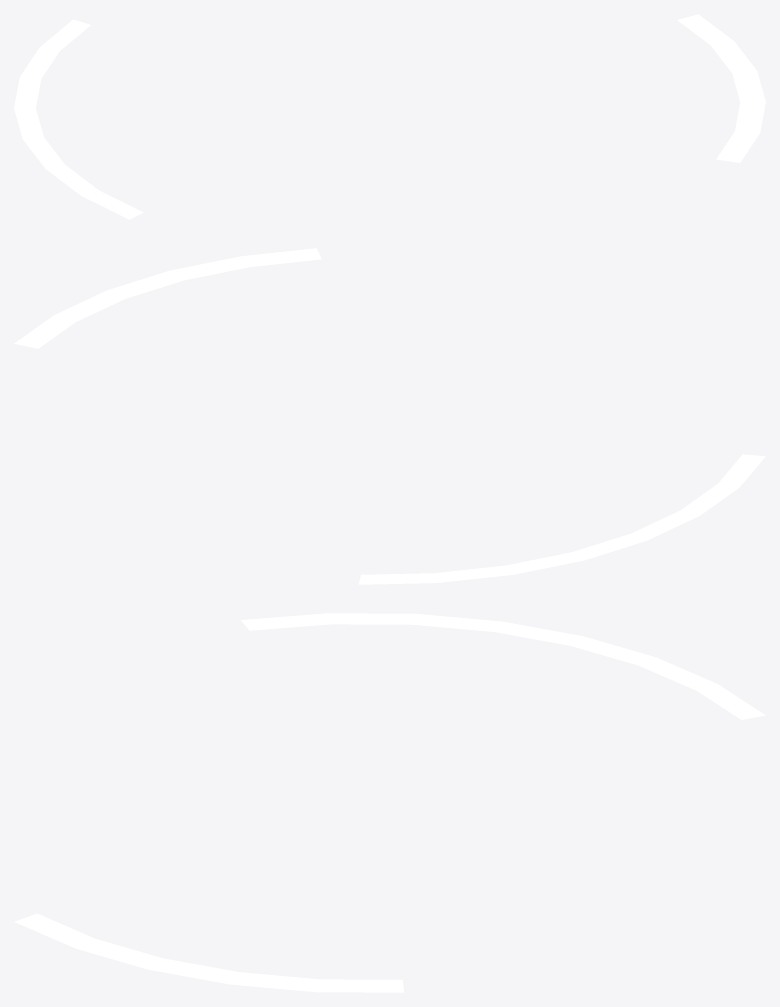
The model's file is Icono3D_Base_b.fbx.
3 views of the same model, one above another, from view 1: azimuth 30°, elevation 25°; view 2: azimuth 150°, elevation 25°; view 3: azimuth 270°, elevation 25° (orthographic). The views are drawn at different scales.
Visible parts, largest first — view 1: Cylinder.015; view 2: Cylinder.015; view 3: Cylinder.015.
Part boxes in pixels (<box>): Cylinder.015: <box>14,14,765,219</box>; Cylinder.015: <box>14,248,765,584</box>; Cylinder.015: <box>14,613,765,992</box>.
Size of the model in its own units: 254 by 213 by 0.
